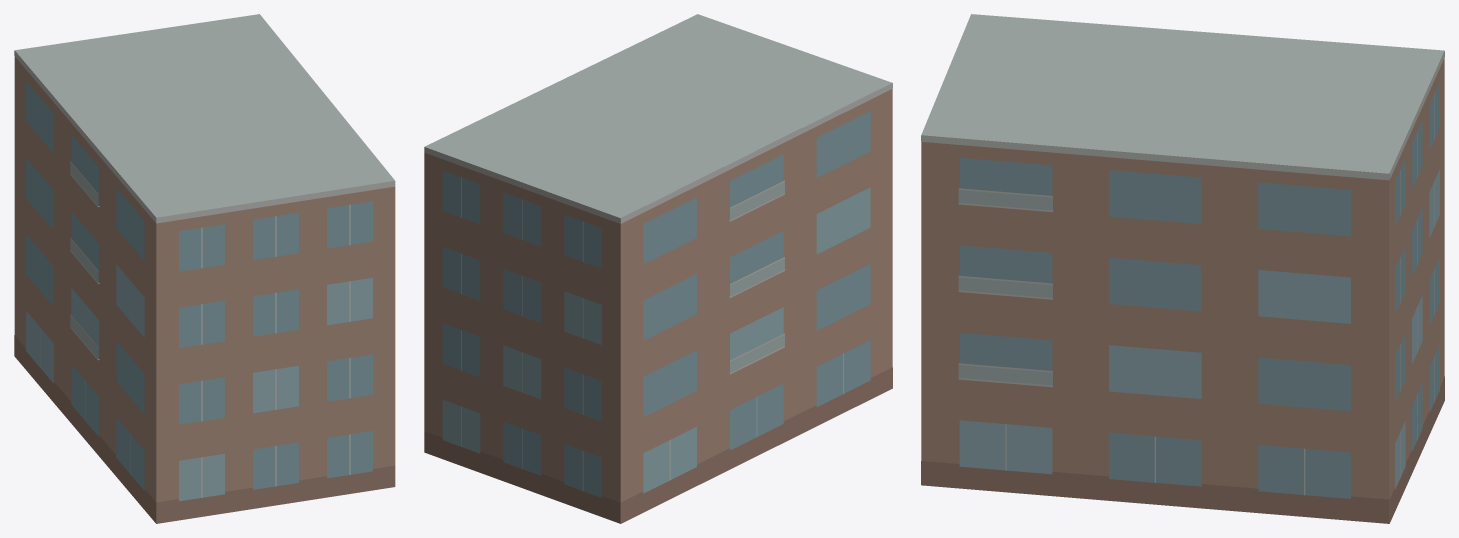
File: survey-upis-32960859.glb
3 views of the same model, side by side, from view 1: azimuth 30°, elevation 25°; view 2: azimuth 150°, elevation 25°; view 3: azimuth 270°, elevation 25° (orthographic). The views are drawn at different scales.
Visible parts, largest first — view 1: survey-upis-32960859.tmp; view 2: survey-upis-32960859.tmp; view 3: survey-upis-32960859.tmp.
Part boxes in pixels (<box>): survey-upis-32960859.tmp: <box>14,14,395,523</box>; survey-upis-32960859.tmp: <box>424,14,892,523</box>; survey-upis-32960859.tmp: <box>921,14,1444,523</box>.
Size of the model in its own units: 12.74 by 13 by 17.63.
